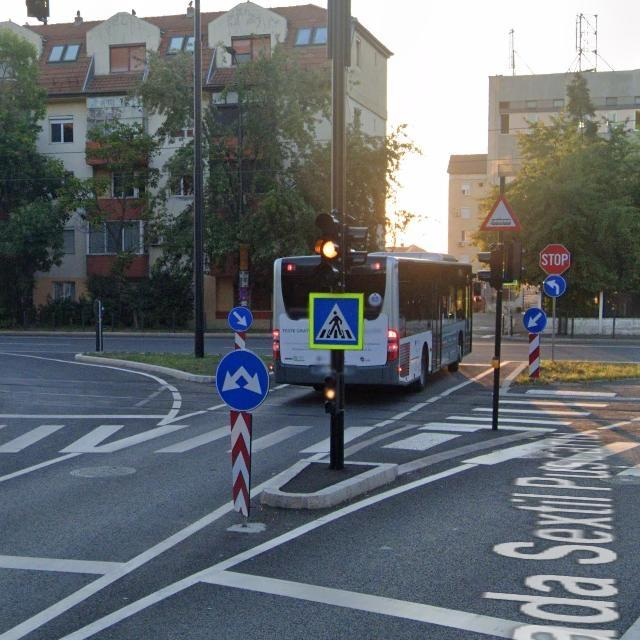info_crosswalk: (309, 292, 365, 350)
prio_stop: (539, 244, 571, 275)
